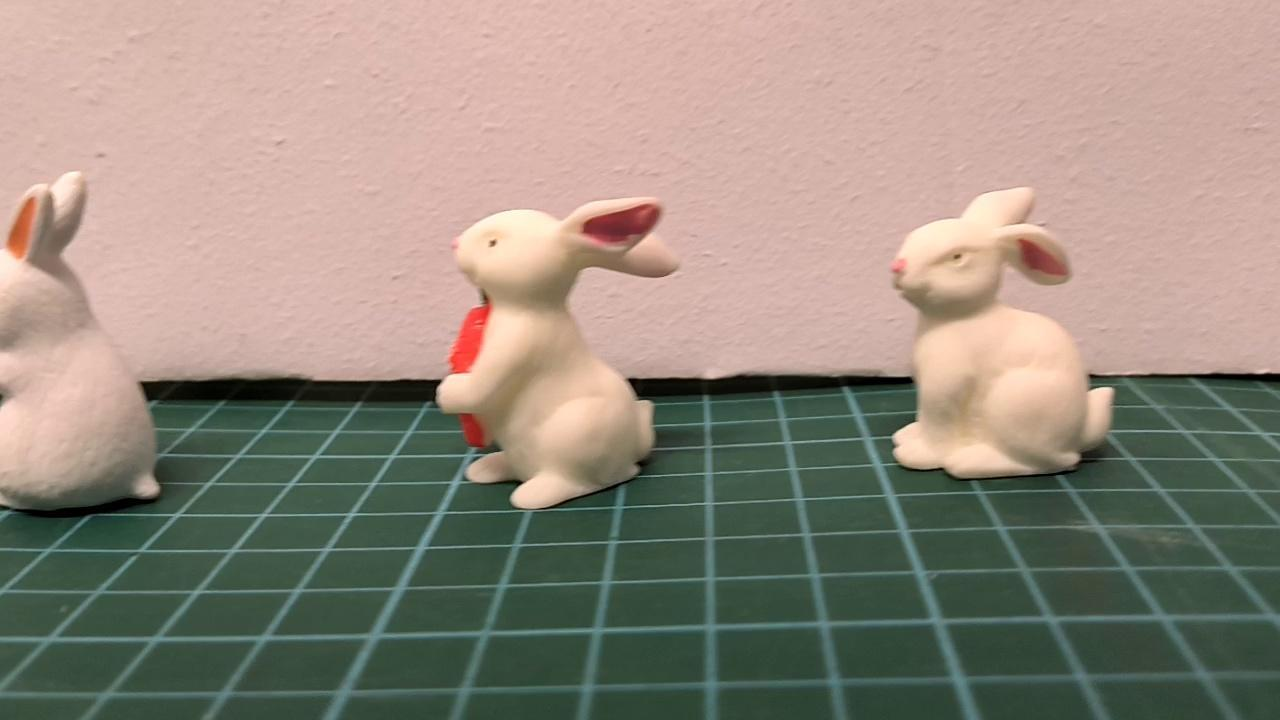pet: (437, 194, 679, 512), (888, 187, 1115, 482), (0, 171, 164, 513)
